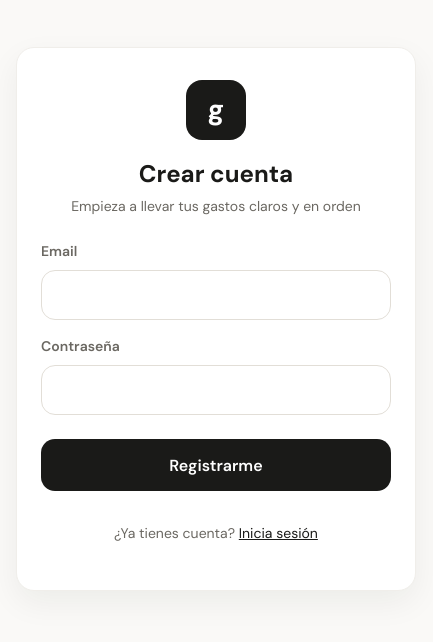
RegistroView (HU-1.1) › Escenario: Email ya registrado con confirmación activa — Supabase responde sin error pero con identities vacío
Type "repetido@test.com" into the field with id "email" at (216, 295), box left=41, top=270, right=391, bottom=320
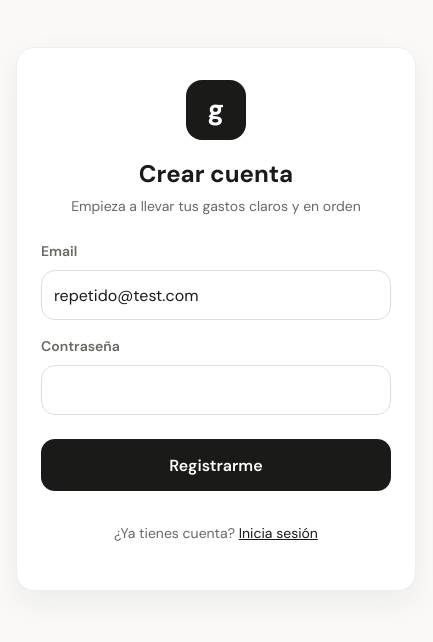
Type "password123" into the password field labelled "Contraseña" at (216, 390), box left=41, top=365, right=391, bottom=415
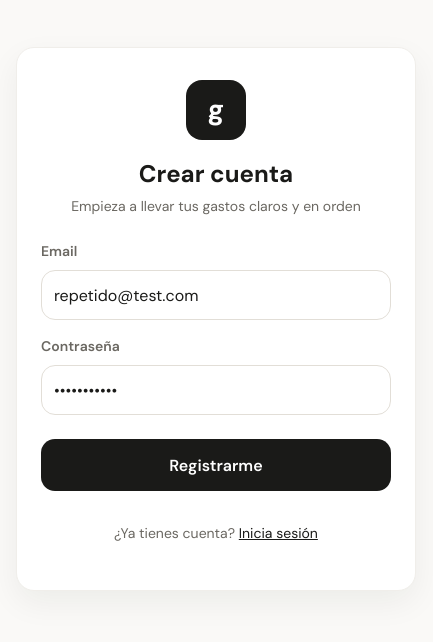
Submit the form, box left=41, top=241, right=391, bottom=491
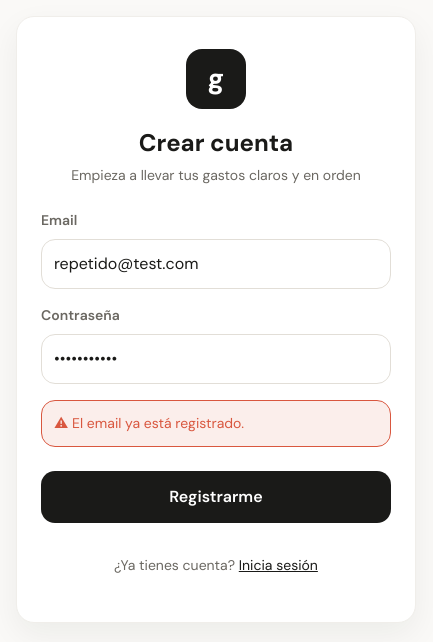
Expected: the message "El email ya está registrado." is shown, left=41, top=400, right=391, bottom=446
